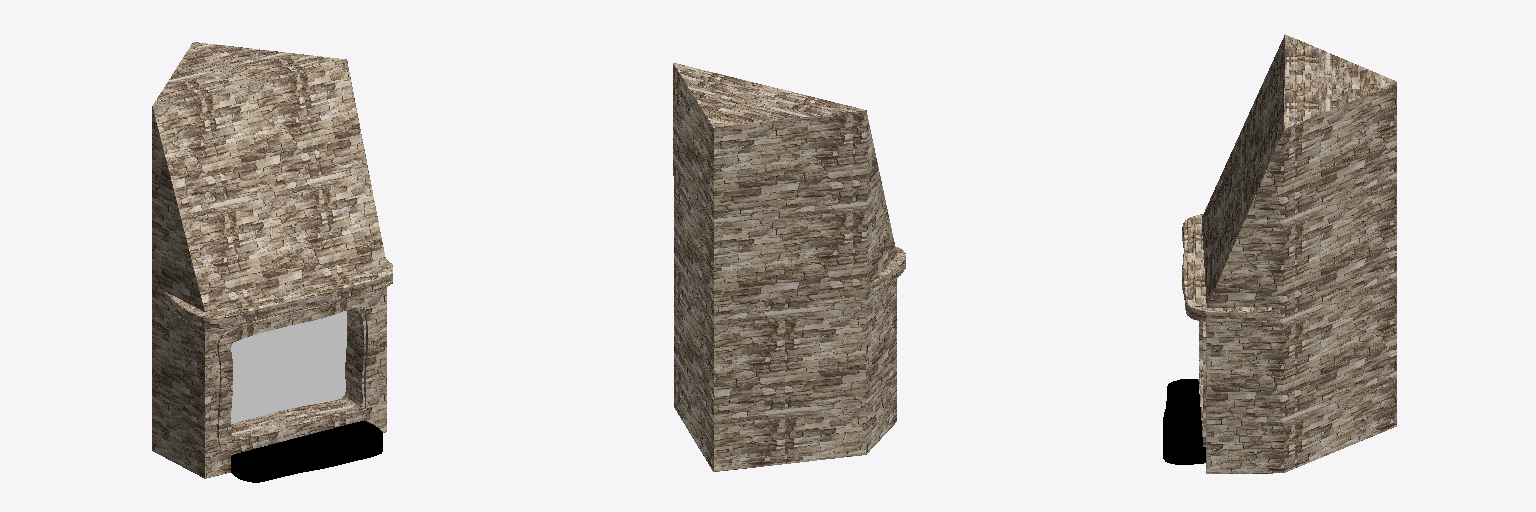
3 renders of one model, left to right at view 1: azimuth 30°, elevation 25°; view 2: azimuth 150°, elevation 25°; view 3: azimuth 270°, elevation 25°, orthographic.
Visible parts, largest first — view 1: Fireplace_06; view 2: Fireplace_06; view 3: Fireplace_06.
Boxes of the visible parts, x1,y1,x2,y2 form: Fireplace_06: [152, 42, 392, 482]; Fireplace_06: [673, 63, 905, 471]; Fireplace_06: [1163, 34, 1396, 473].
Size of the model in its own units: 3.71 by 5.99 by 3.7.
Materials: 3 (1 with a texture image).